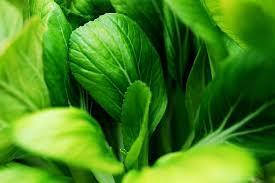Healthy-Pechay: (4, 1, 275, 181)
